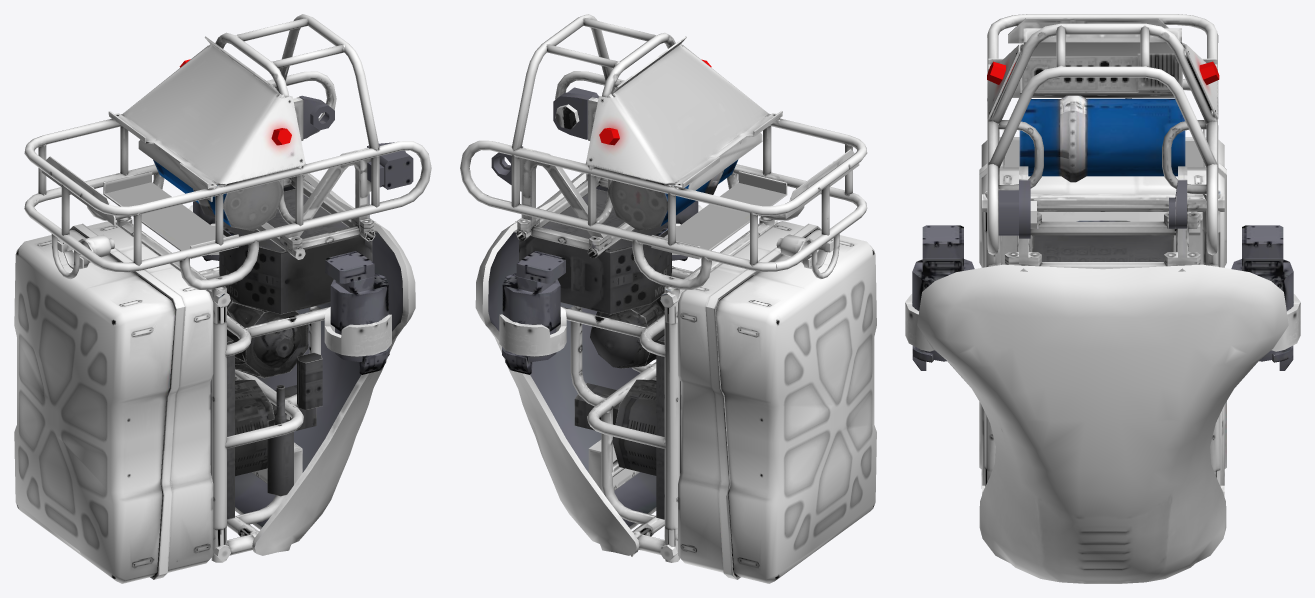
File: utorso.dae
The picture shows the model from 3 angles, left to right: view 1: azimuth 30°, elevation 25°; view 2: azimuth 150°, elevation 25°; view 3: azimuth 270°, elevation 25°; orthographic projection. The views are drawn at different scales.
Visible parts, largest first — view 1: utorso; view 2: utorso; view 3: utorso.
Part boxes in pixels (box(x1,y1,x2,y2)): utorso: box(14, 14, 431, 583); utorso: box(460, 14, 876, 583); utorso: box(905, 14, 1300, 583).
Size of the model in its own units: 0.6238 by 0.5601 by 0.8599.
1 material, 1 textured.
